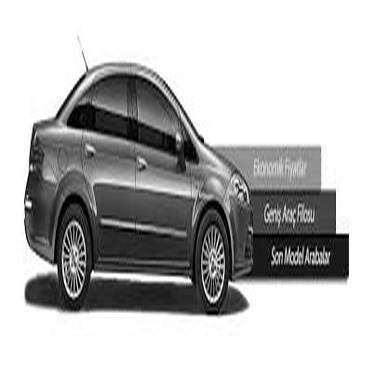car: (17, 31, 263, 316)
